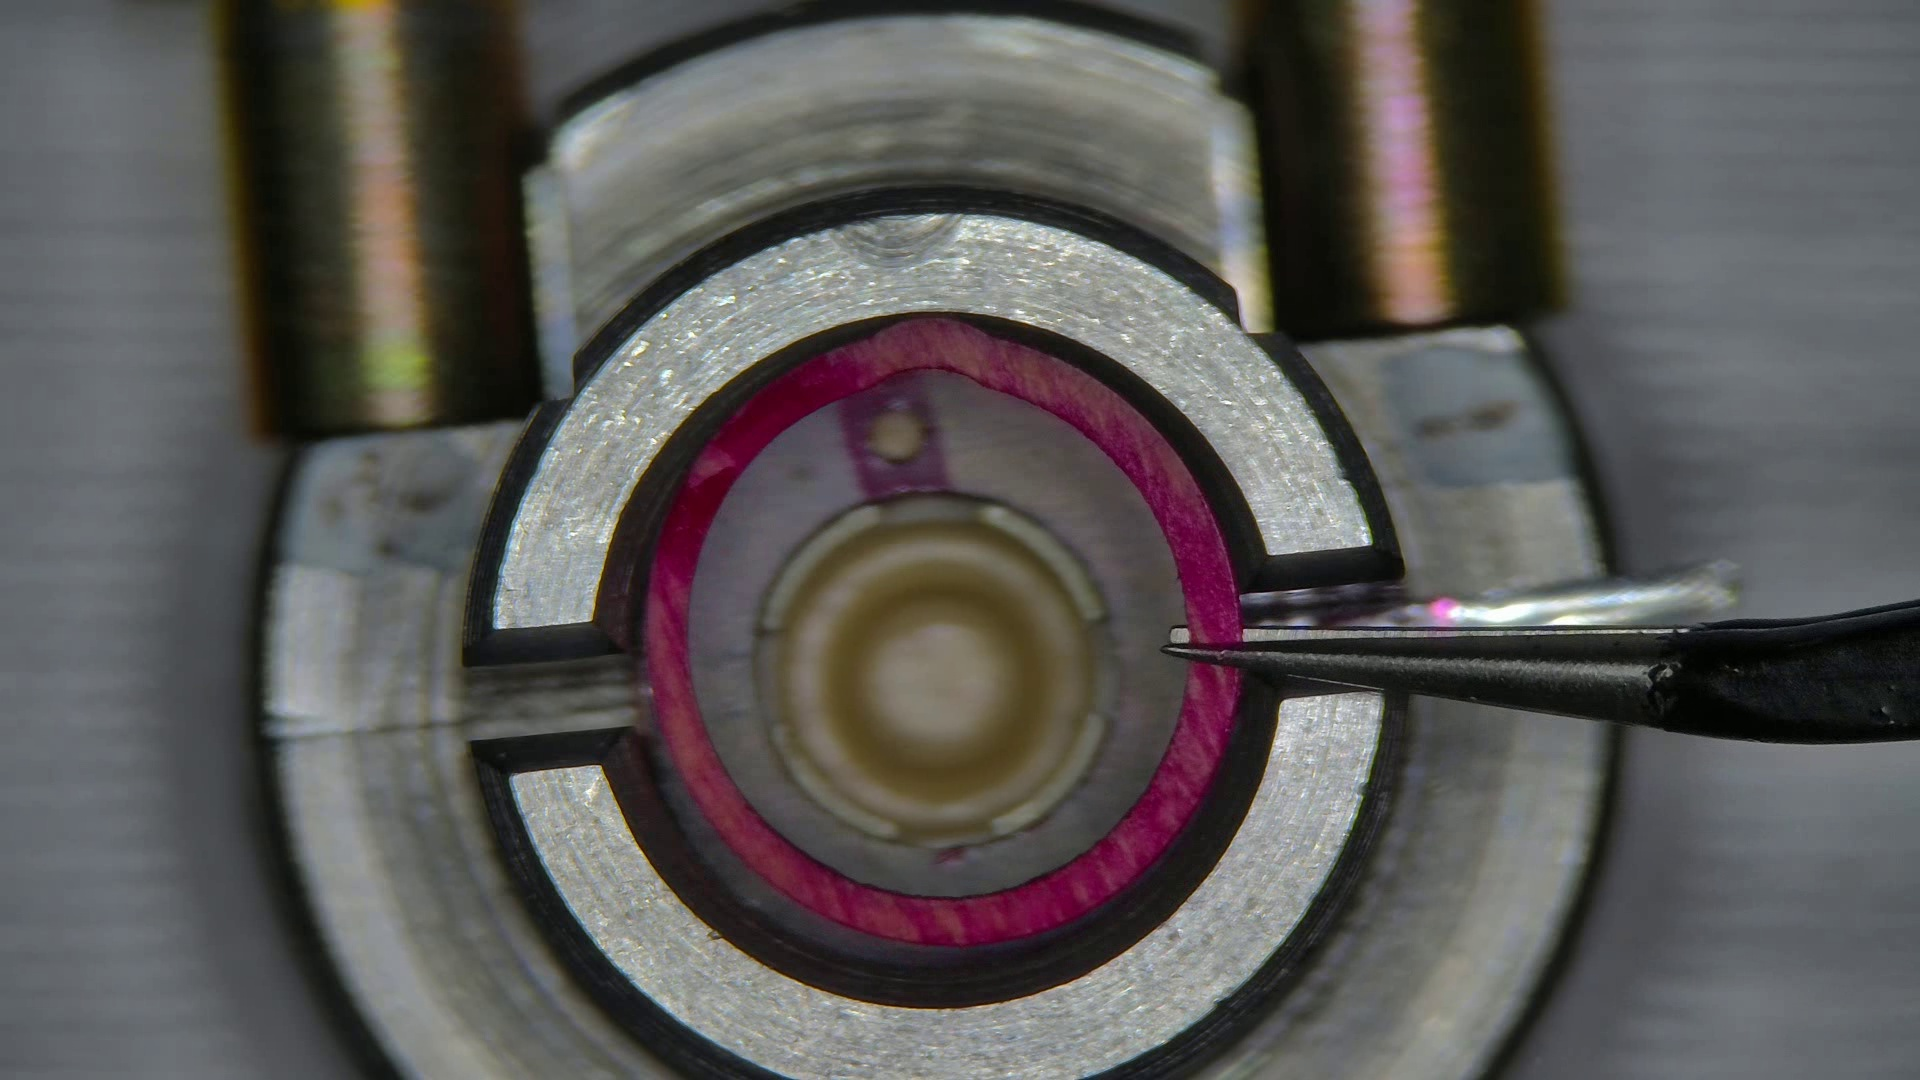GreyOring: (640, 320, 1241, 948)
YellowOring: (691, 373, 1185, 895), (646, 679, 980, 967)
